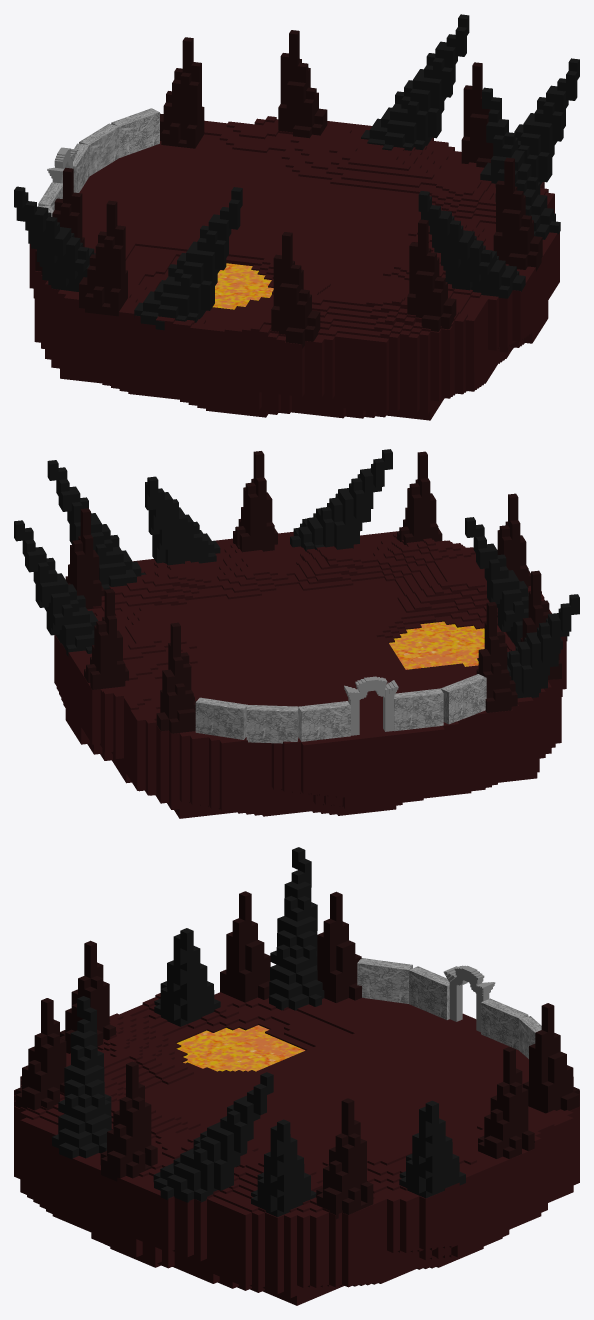
File: Boss arena Finished.fbx
3 views of the same model, one above another, from view 1: azimuth 30°, elevation 25°; view 2: azimuth 150°, elevation 25°; view 3: azimuth 270°, elevation 25° (orthographic). The views are drawn at different scales.
Parts seen in each view (by area): view 1: Cube.002, Cone.004, Cone.005, Cone.007, Cone.009, Cone.012, Cone.008, Cone.006, Cone.003, Cone.013, Cone.001, Cone.010 (+8 smaller); view 2: Cube.002, Cone.005, Cone.007, Cone.006, Cone.009, Cone.012, Plane, Cone.004, Cone.001, Cone.013, Cone.002, Cone.011 (+10 smaller); view 3: Cube.002, Cone.006, Cone.007, Cone.009, Cone.013, Cone, Plane, Cone.004, Cone.011, Cone.005, Cone.001, Cone.012 (+9 smaller).
Boxes of the visible parts, left/top/right/bottom form: Cube.002: left=29, top=116, right=559, bottom=420; Cone.004: left=134, top=187, right=242, bottom=330; Cone.005: left=361, top=14, right=469, bottom=150; Cone.007: left=418, top=191, right=525, bottom=298; Cone.009: left=14, top=186, right=95, bottom=291; Cone.012: left=480, top=58, right=579, bottom=187; Cone.008: left=79, top=200, right=127, bottom=316; Cone.006: left=482, top=87, right=560, bottom=239; Cone.003: left=271, top=232, right=320, bottom=348; Cone.013: left=493, top=157, right=542, bottom=271; Cone.001: left=160, top=37, right=204, bottom=148; Cone.010: left=407, top=219, right=456, bottom=331; Cube.002: left=54, top=531, right=566, bottom=818; Cone.005: left=14, top=520, right=97, bottom=656; Cone.007: left=290, top=449, right=392, bottom=551; Cone.006: left=145, top=476, right=220, bottom=565; Cone.009: left=507, top=594, right=579, bottom=698; Cone.012: left=47, top=460, right=145, bottom=589; Plane: left=389, top=621, right=484, bottom=669; Cone.004: left=465, top=517, right=567, bottom=649; Cone.001: left=156, top=622, right=196, bottom=733; Cone.013: left=233, top=451, right=277, bottom=552; Cone.002: left=476, top=602, right=517, bottom=712; Cone.011: left=84, top=589, right=128, bottom=689; Cube.002: left=14, top=992, right=579, bottom=1305; Cone.006: left=153, top=1072, right=273, bottom=1202; Cone.007: left=52, top=996, right=111, bottom=1159; Cone.009: left=269, top=847, right=324, bottom=1010; Cone.013: left=100, top=1061, right=157, bottom=1181; Cone: left=316, top=1098, right=373, bottom=1219; Plane: left=176, top=1025, right=305, bottom=1071; Cone.004: left=154, top=928, right=220, bottom=1026; Cone.011: left=478, top=1046, right=534, bottom=1158; Cone.005: left=399, top=1100, right=465, bottom=1198; Cone.001: left=522, top=1003, right=579, bottom=1113; Cone.012: left=251, top=1119, right=316, bottom=1217.
Size of the model in its own units: 5010 by 1703 by 4310.
